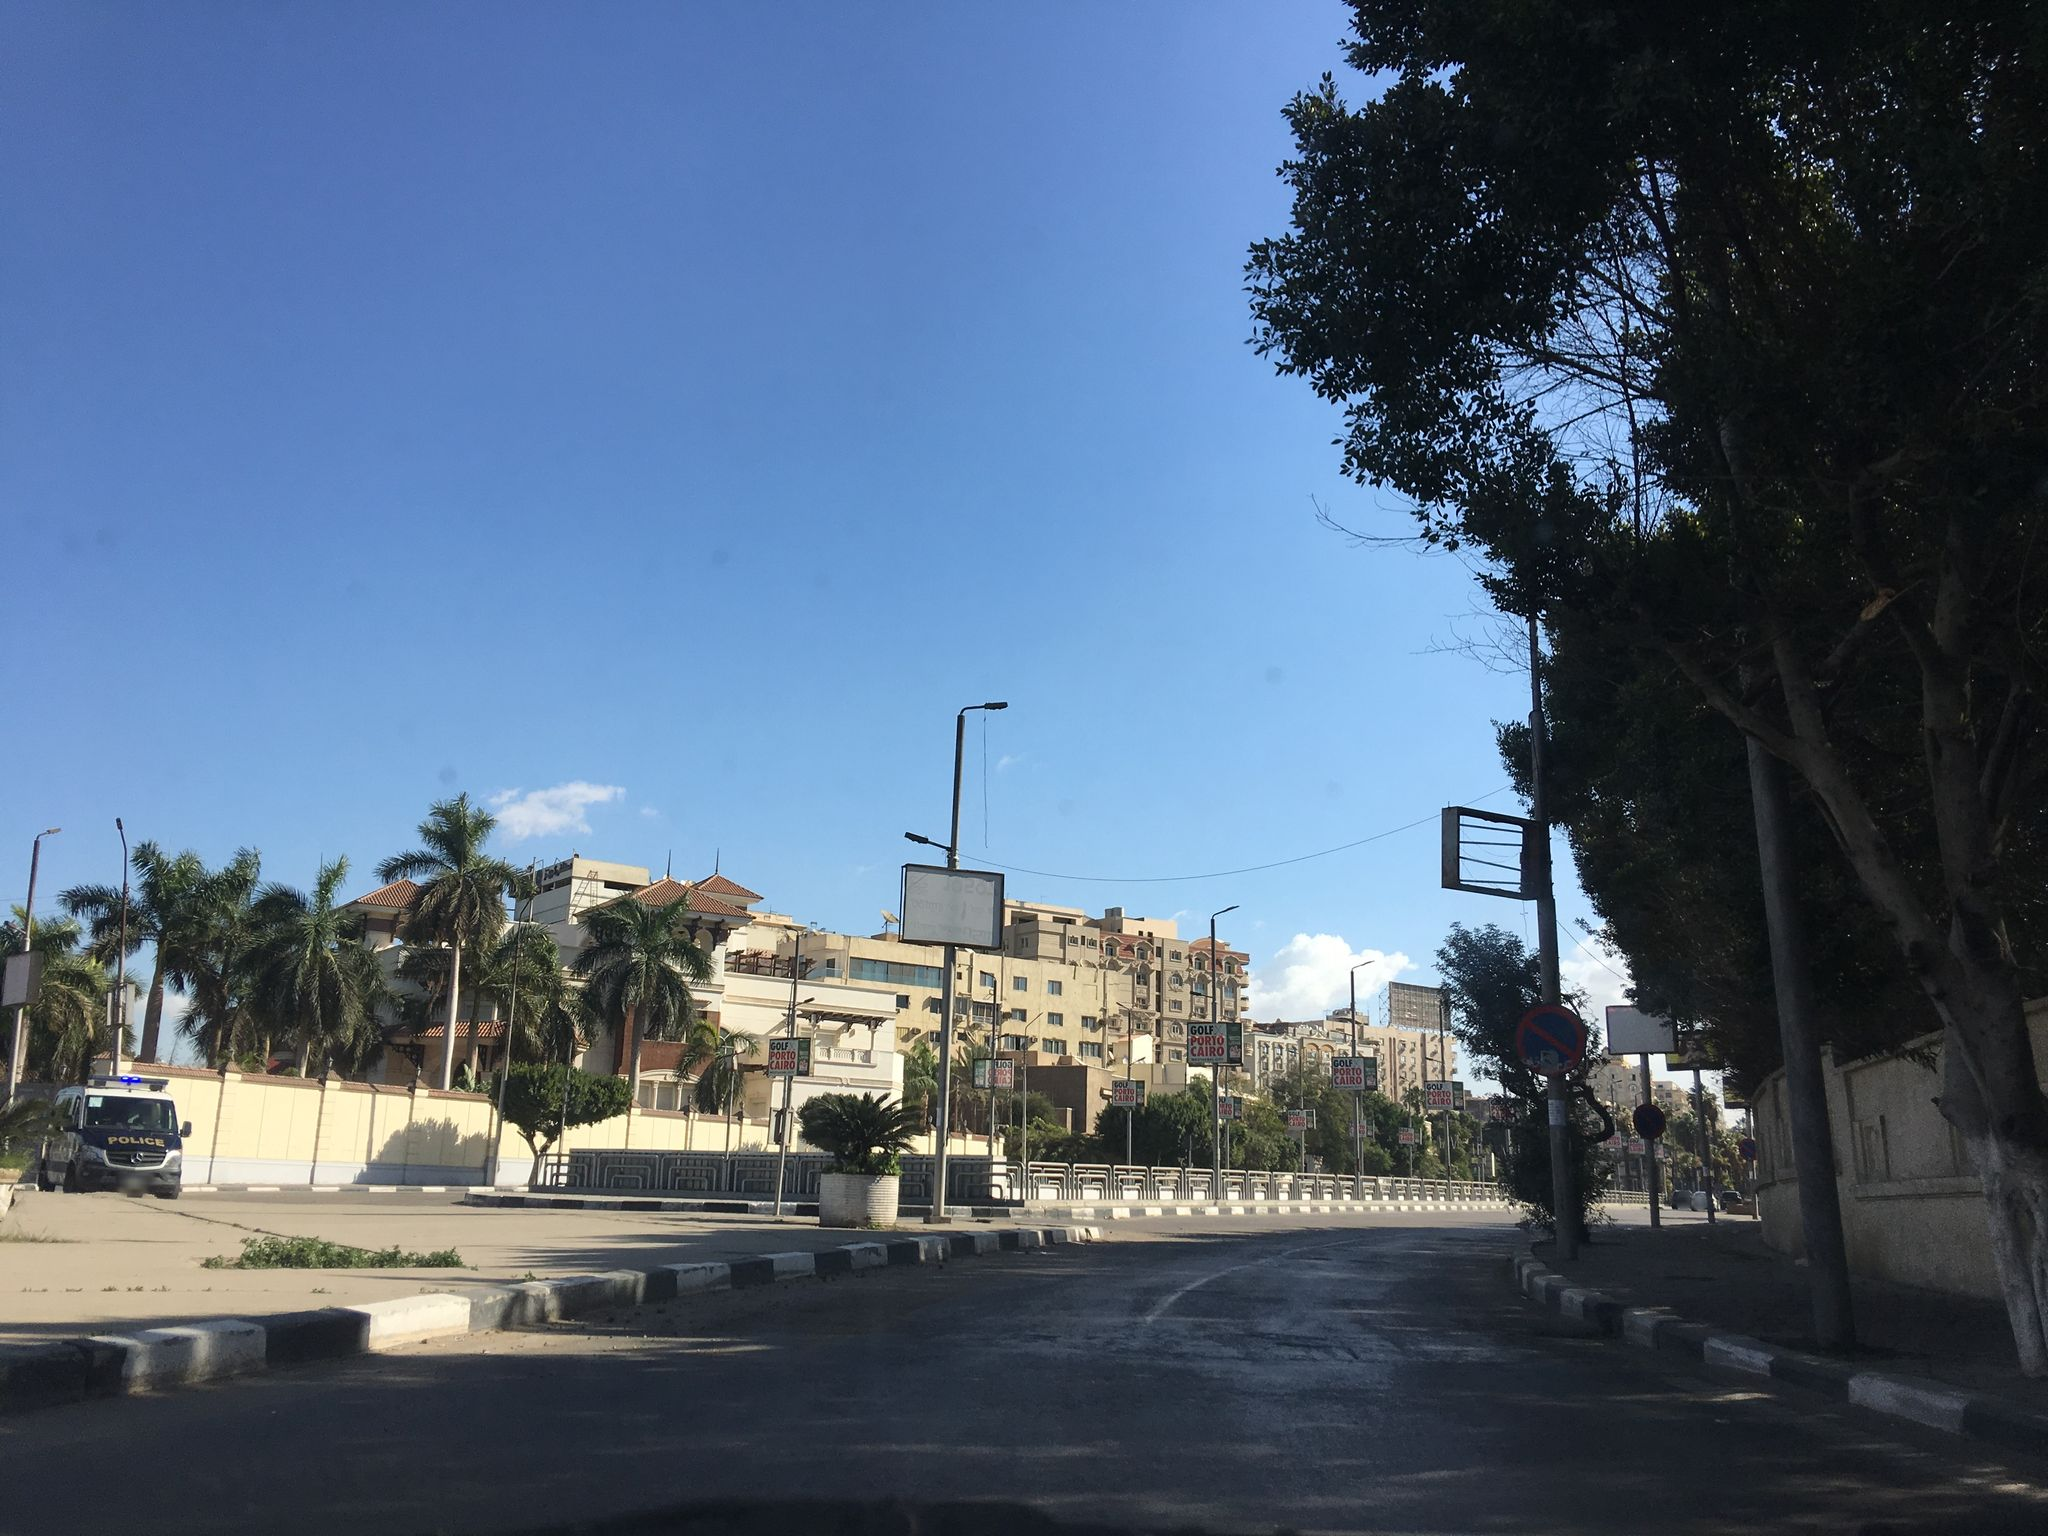car: (37, 1073, 194, 1196)
